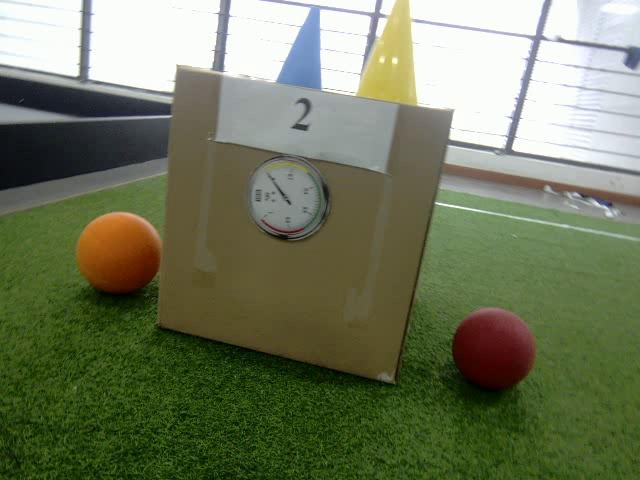2: (290, 97, 312, 132)
Dashboard: (248, 154, 329, 243)
blue_barrel: (272, 6, 324, 93)
orange_ball: (75, 209, 163, 294)
red_ball: (449, 308, 537, 391)
ssi: (253, 186, 262, 204)
yellow_barrel: (355, 0, 422, 107)
